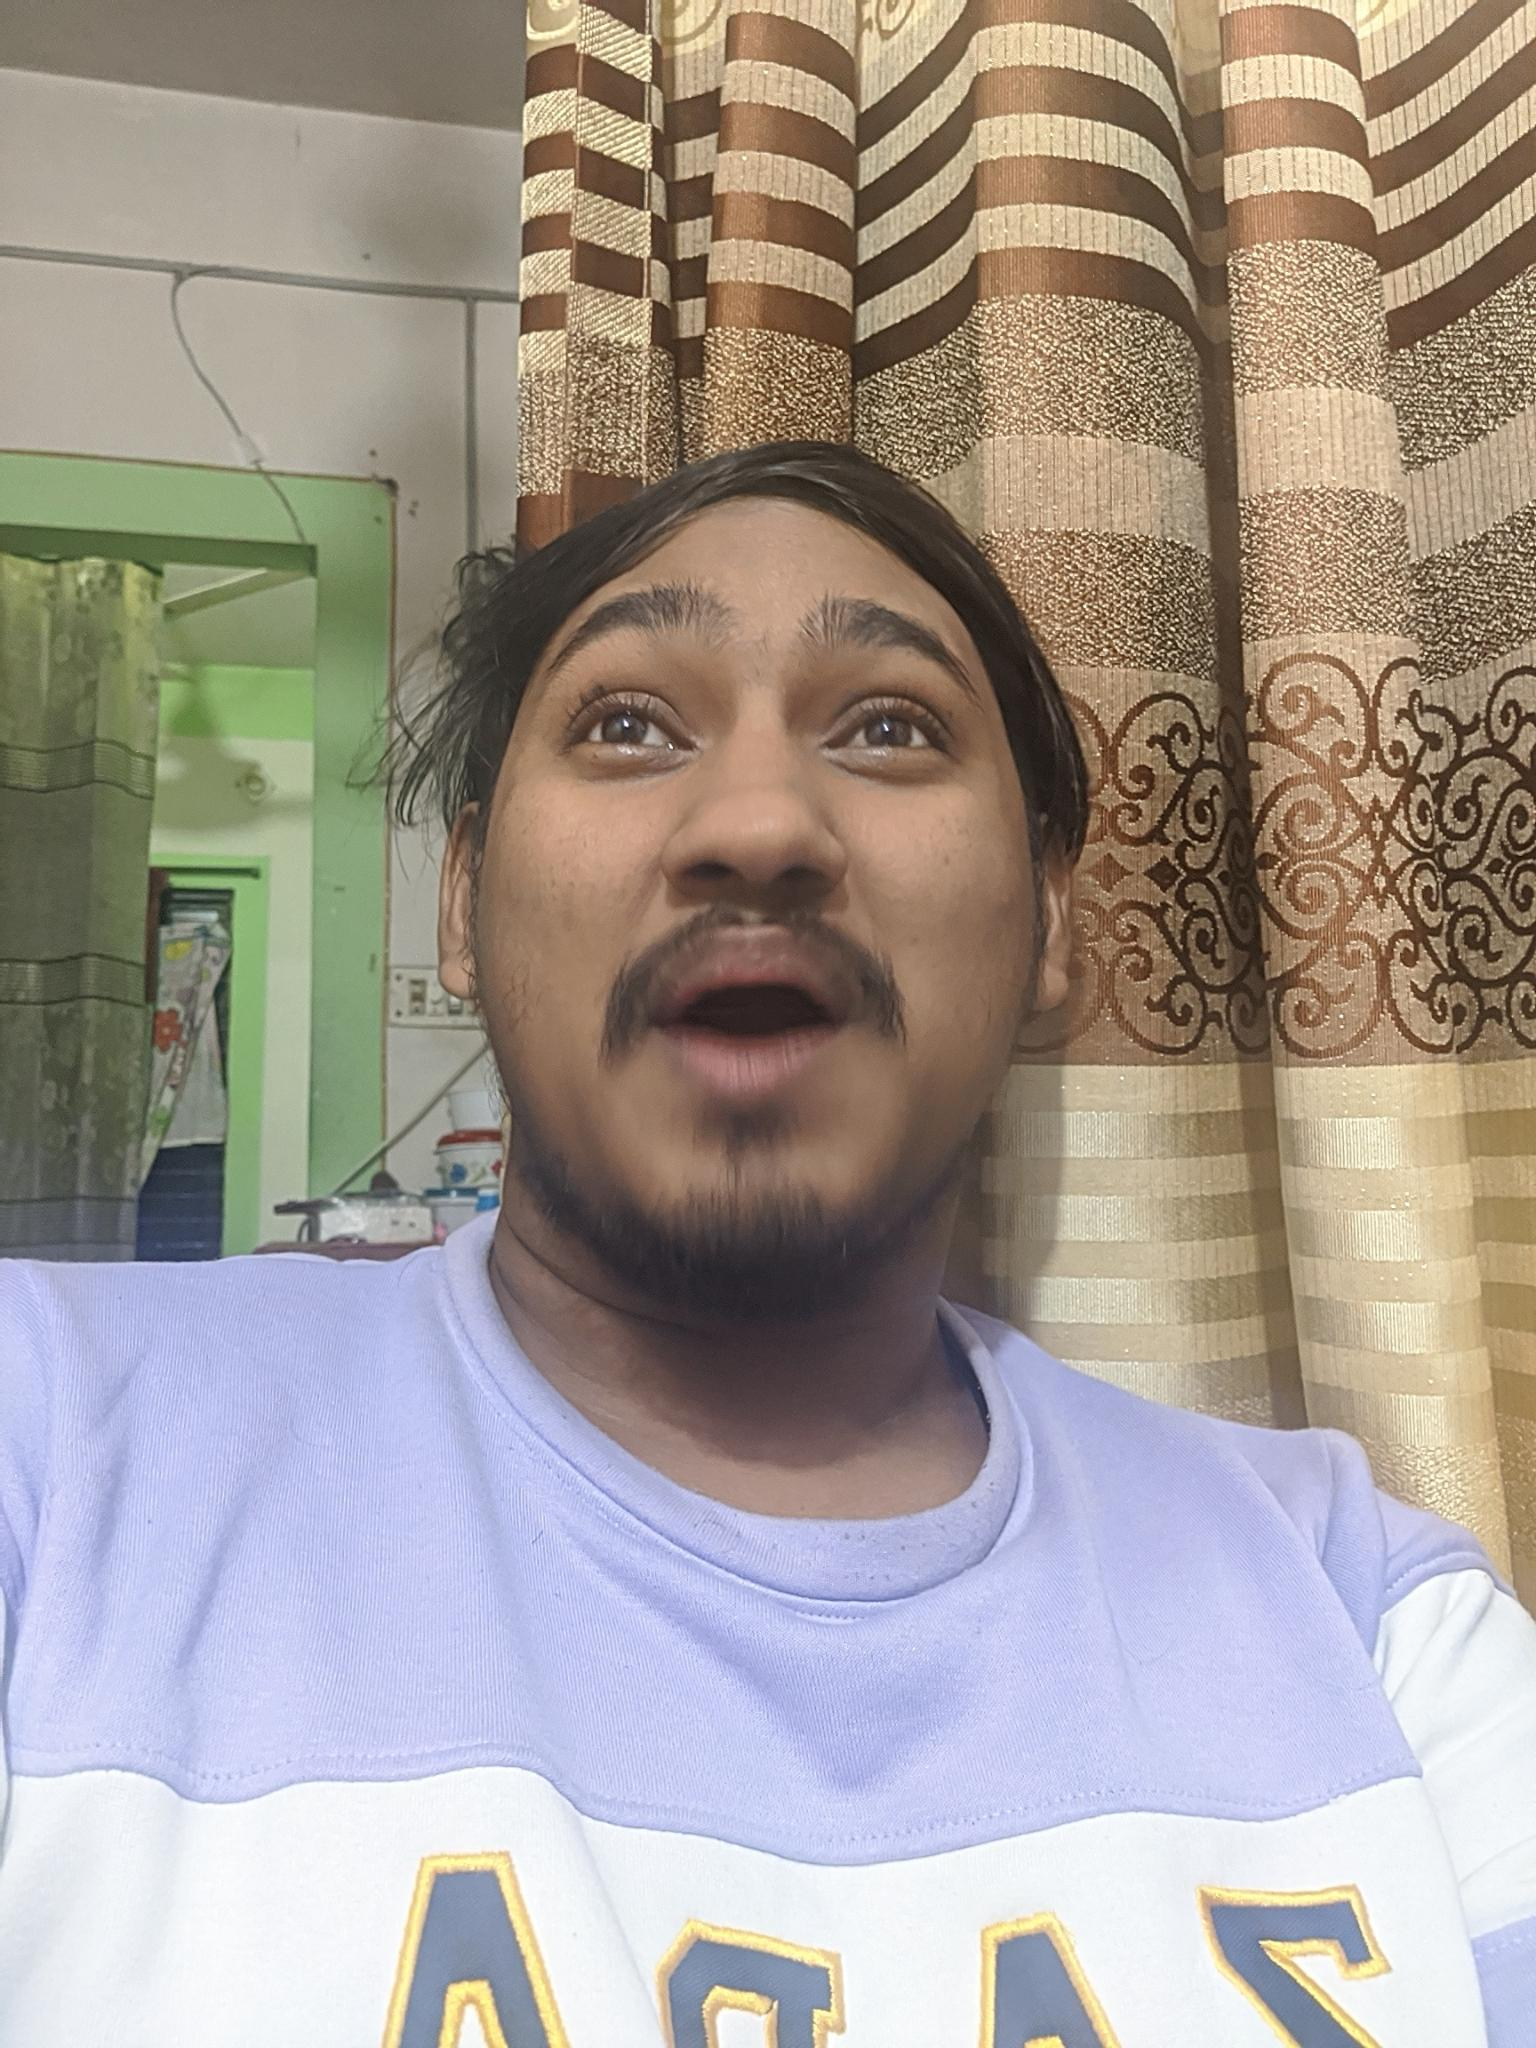Surprise: (481, 555, 1020, 1243)
